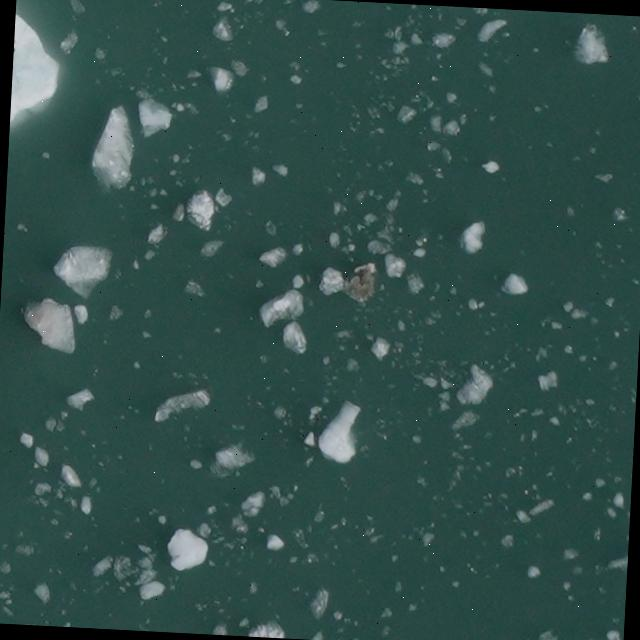seal: (11, 32, 24, 100)
